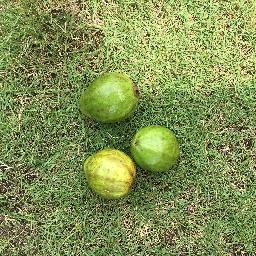Good_guava: (75, 72, 142, 125), (80, 145, 136, 200), (132, 123, 180, 177)
